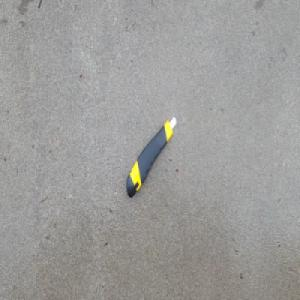Cutter: (126, 114, 178, 199)
